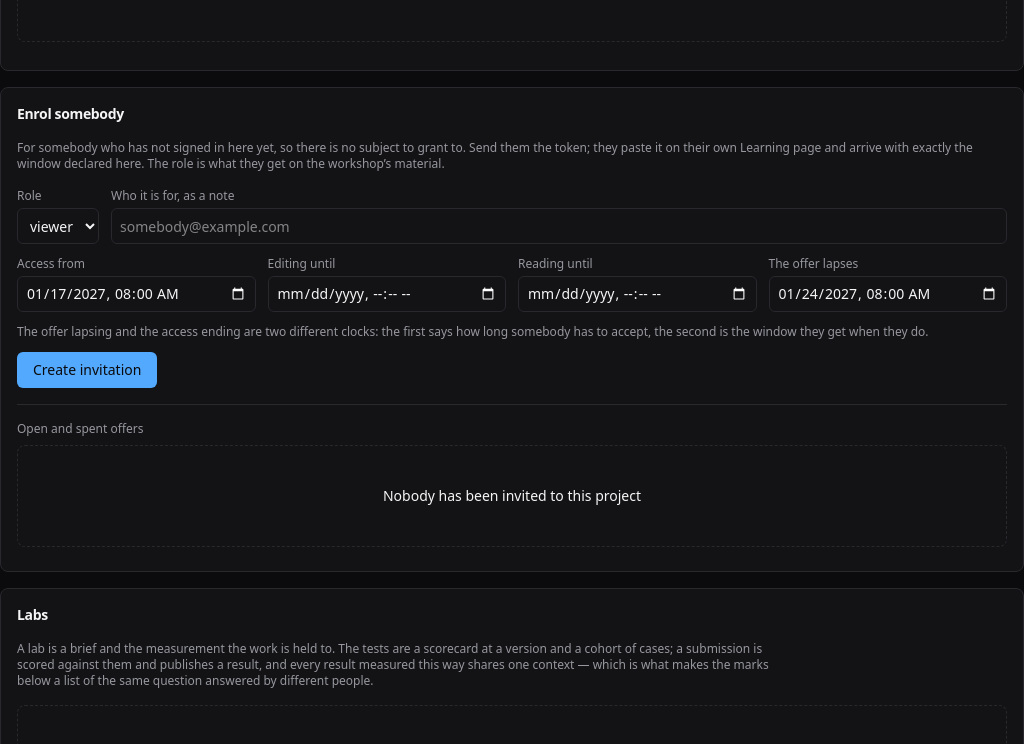
Test case: shows an enrolment token once and never asks the server for it again
The image size is (1024, 744).
(page scrolled)
Click the button "Create invitation": (87, 370) [17,352,157,388]
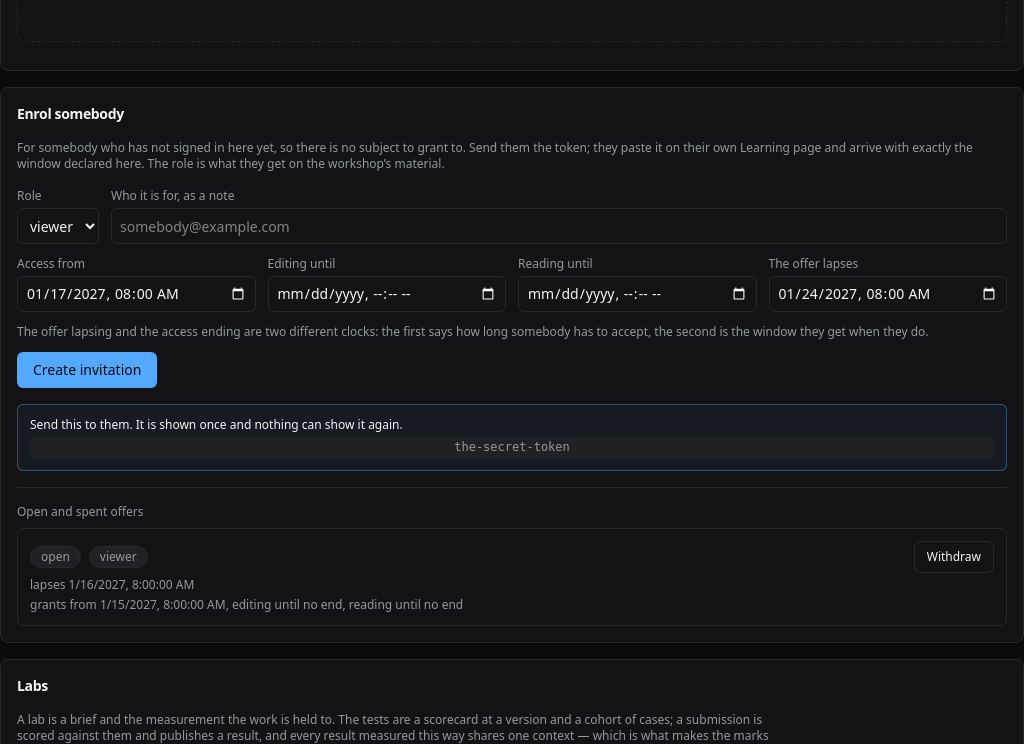
Now the button "the-secret-token" is shown, box [30,437,994,458]
Now the text "open" is shown, box [30,546,81,568]
